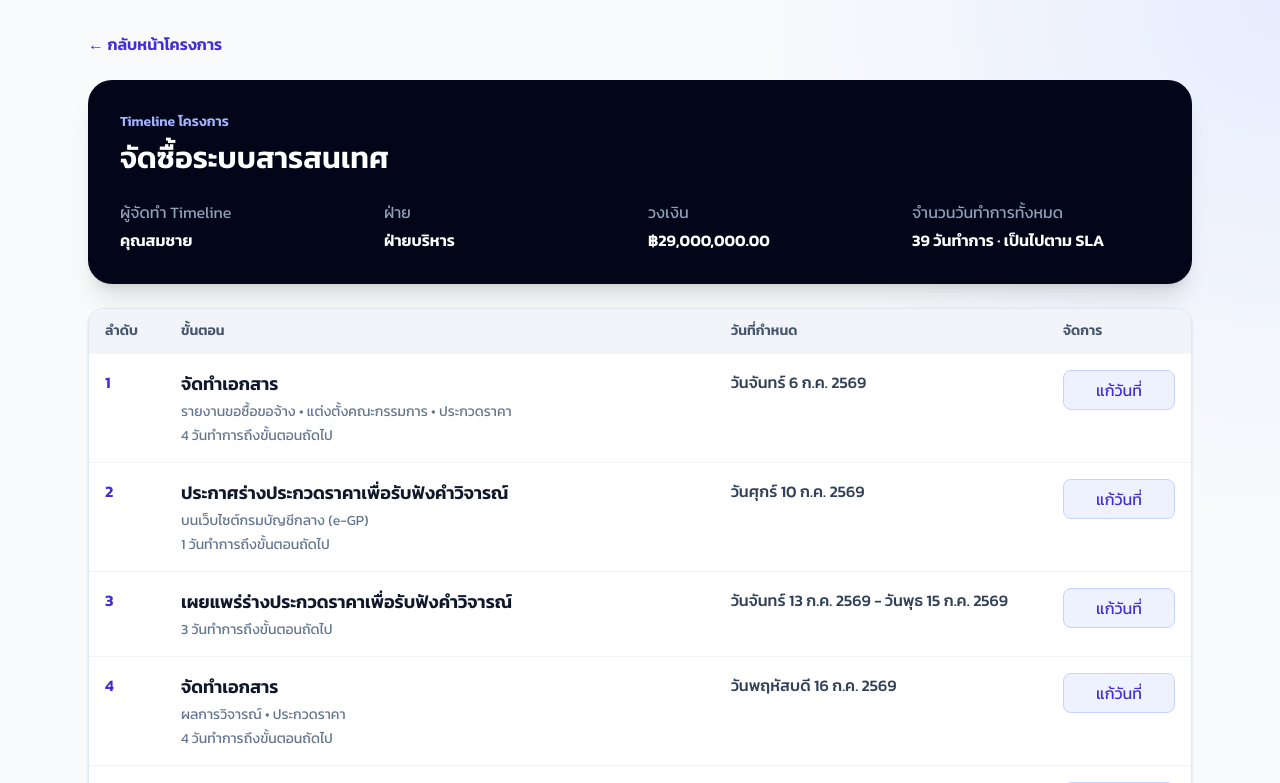
TimelineDetail › submits a manual date edit immediately, shows success, and then closes the editor
Click the button with aria-label "แก้วันที่ ขั้นตอนที่ 2": (1119, 499) [1063,479,1175,519]
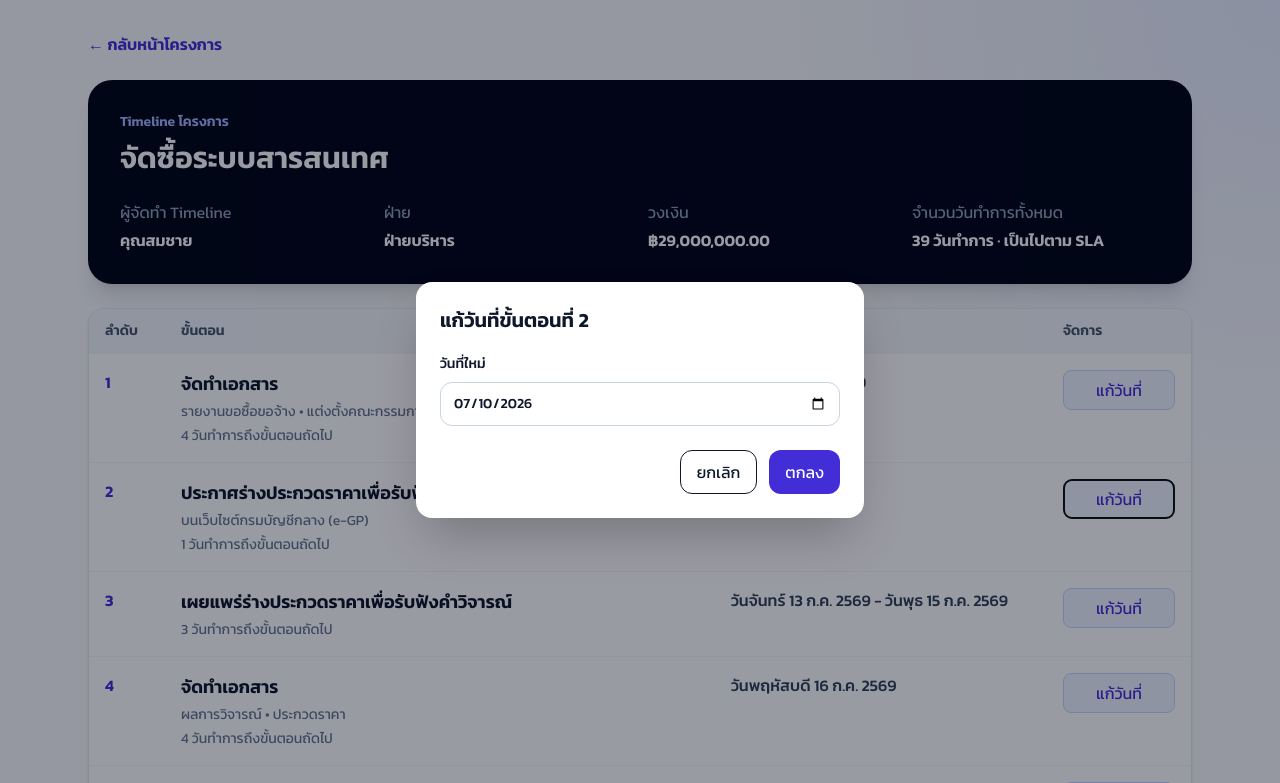
Now the button "ตกลง" is shown, box [769,450,840,494]
In the date field labelled "วันที่ใหม่": (640, 404) [440,382,840,426], type "2026-07-14"
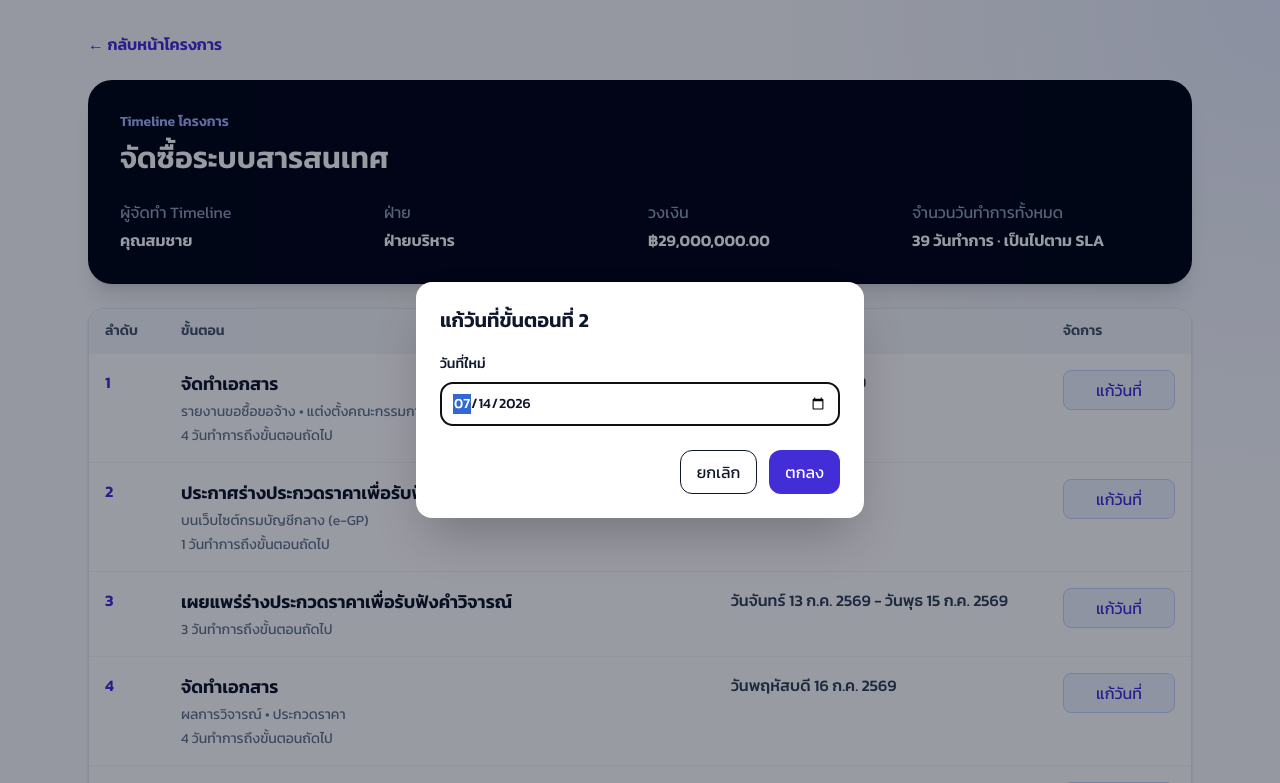
Click the button "ตกลง": (805, 472) [769,450,840,494]
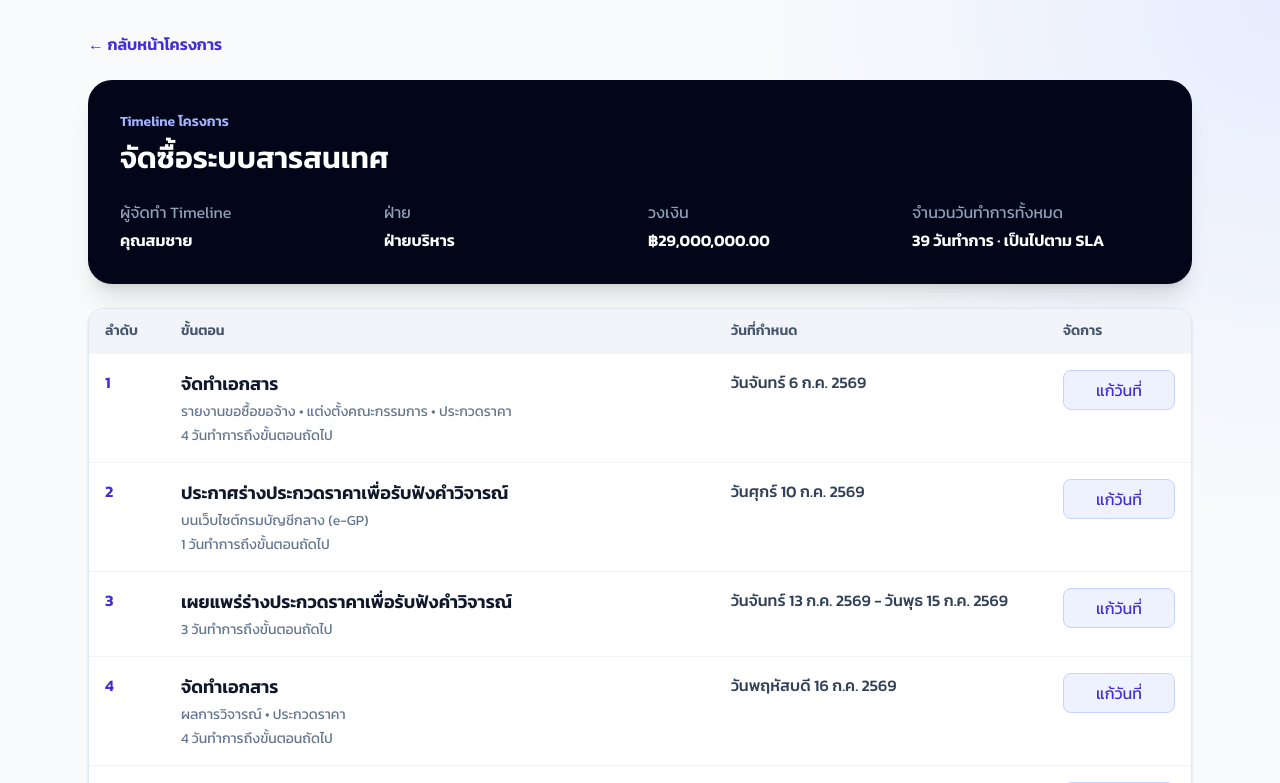
Now the heading "แก้วันที่ขั้นตอนที่ 2" is gone
